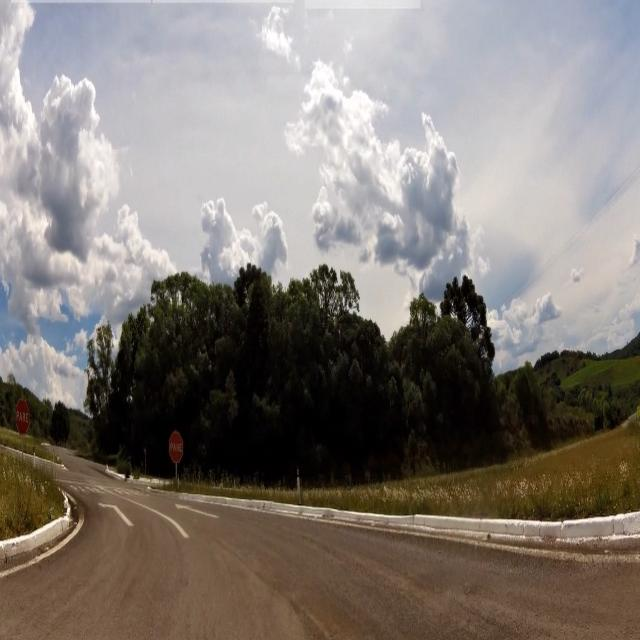R-1: (15, 395, 32, 444), (170, 428, 182, 470)
